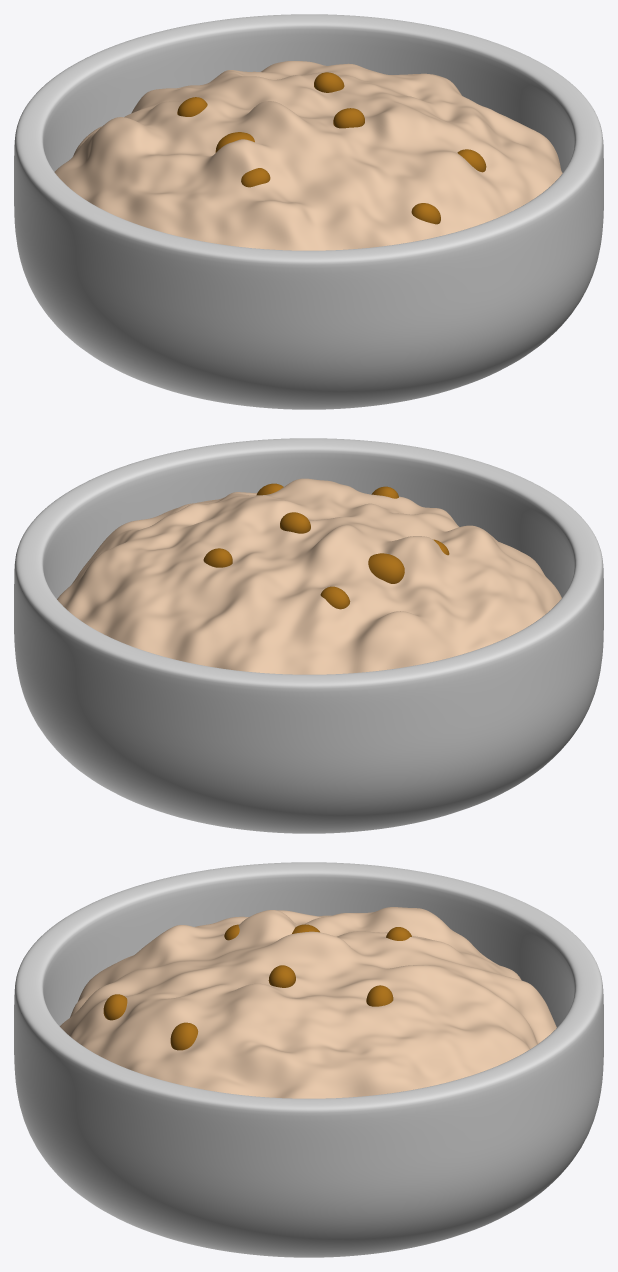
Rendered from porridge-3d-icon-1164631419537.glb.
3 views of the same model, one above another, from view 1: azimuth 30°, elevation 25°; view 2: azimuth 150°, elevation 25°; view 3: azimuth 270°, elevation 25° (orthographic).
Visible parts, largest first — view 1: Bowl, Porridge, Peas; view 2: Bowl, Porridge, Peas; view 3: Bowl, Porridge, Peas.
Boxes of the visible parts, x1,y1,x2,y2 form: Bowl: (14, 14, 603, 409); Porridge: (54, 61, 562, 250); Peas: (177, 72, 486, 224); Bowl: (14, 438, 603, 833); Porridge: (57, 478, 561, 674); Peas: (203, 483, 449, 609); Bowl: (14, 862, 603, 1257); Porridge: (60, 907, 556, 1098); Peas: (103, 924, 411, 1050).
Bounding box in the file's own units: 1.95 × 0.8911 × 1.95.
